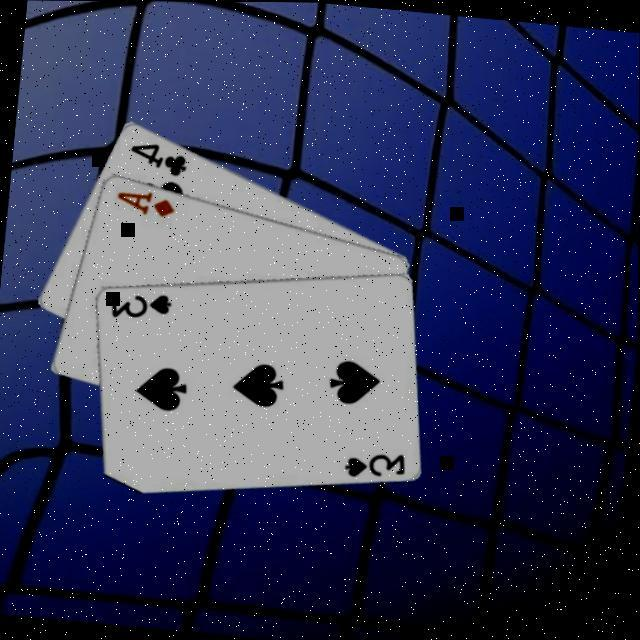3S: (106, 286, 176, 325), (342, 445, 412, 483)
4C: (126, 138, 192, 180)
AD: (114, 186, 180, 220)
